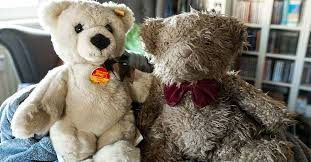teddy: (112, 7, 302, 162), (9, 2, 156, 162)
